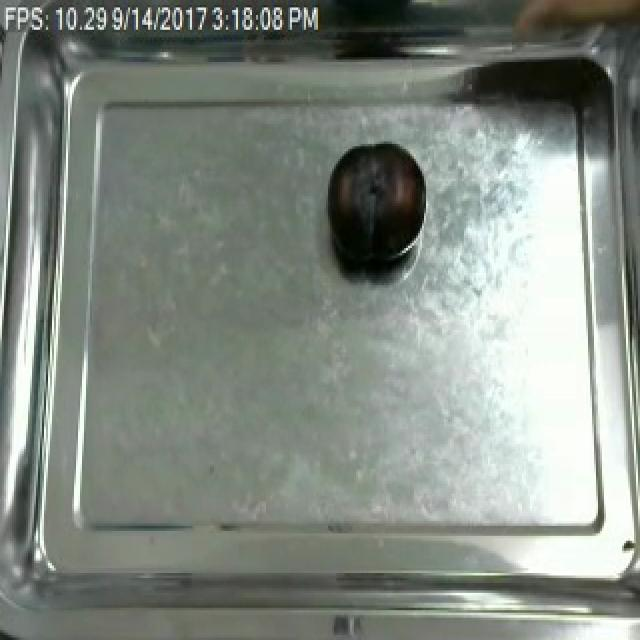Fruit: (320, 139, 428, 275)
